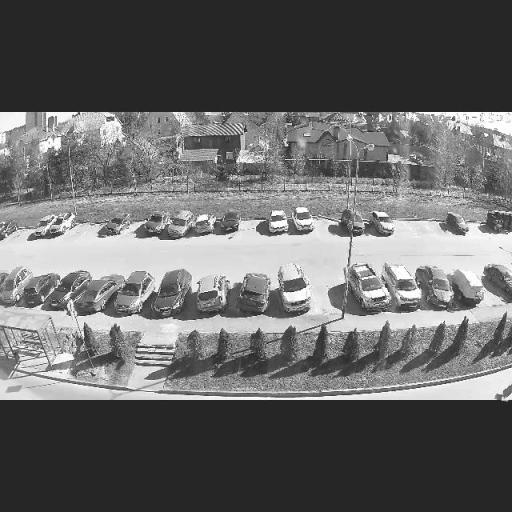busy: (269, 260, 318, 316), (345, 261, 394, 313), (144, 270, 194, 318), (108, 272, 154, 316), (230, 272, 276, 314), (418, 266, 460, 312), (386, 266, 428, 308), (44, 272, 88, 312), (72, 276, 117, 314), (188, 275, 230, 314), (0, 266, 34, 306), (450, 272, 489, 306), (28, 214, 76, 239), (484, 263, 512, 302), (22, 274, 56, 306), (96, 213, 131, 240), (140, 210, 169, 238), (164, 210, 193, 238), (342, 210, 372, 235), (266, 212, 292, 236), (443, 216, 472, 236), (216, 213, 242, 235), (291, 210, 317, 232), (491, 375, 512, 401), (190, 215, 216, 235), (370, 220, 398, 236), (0, 220, 16, 240)
free: (310, 288, 342, 310), (481, 276, 500, 306), (68, 217, 92, 239), (430, 212, 447, 239), (316, 214, 338, 234), (16, 222, 34, 244), (128, 216, 146, 237), (243, 217, 264, 234), (91, 218, 106, 236), (466, 220, 480, 238), (407, 224, 428, 234), (392, 224, 410, 234)
